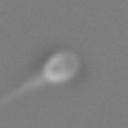normal: (1, 71, 45, 112)
